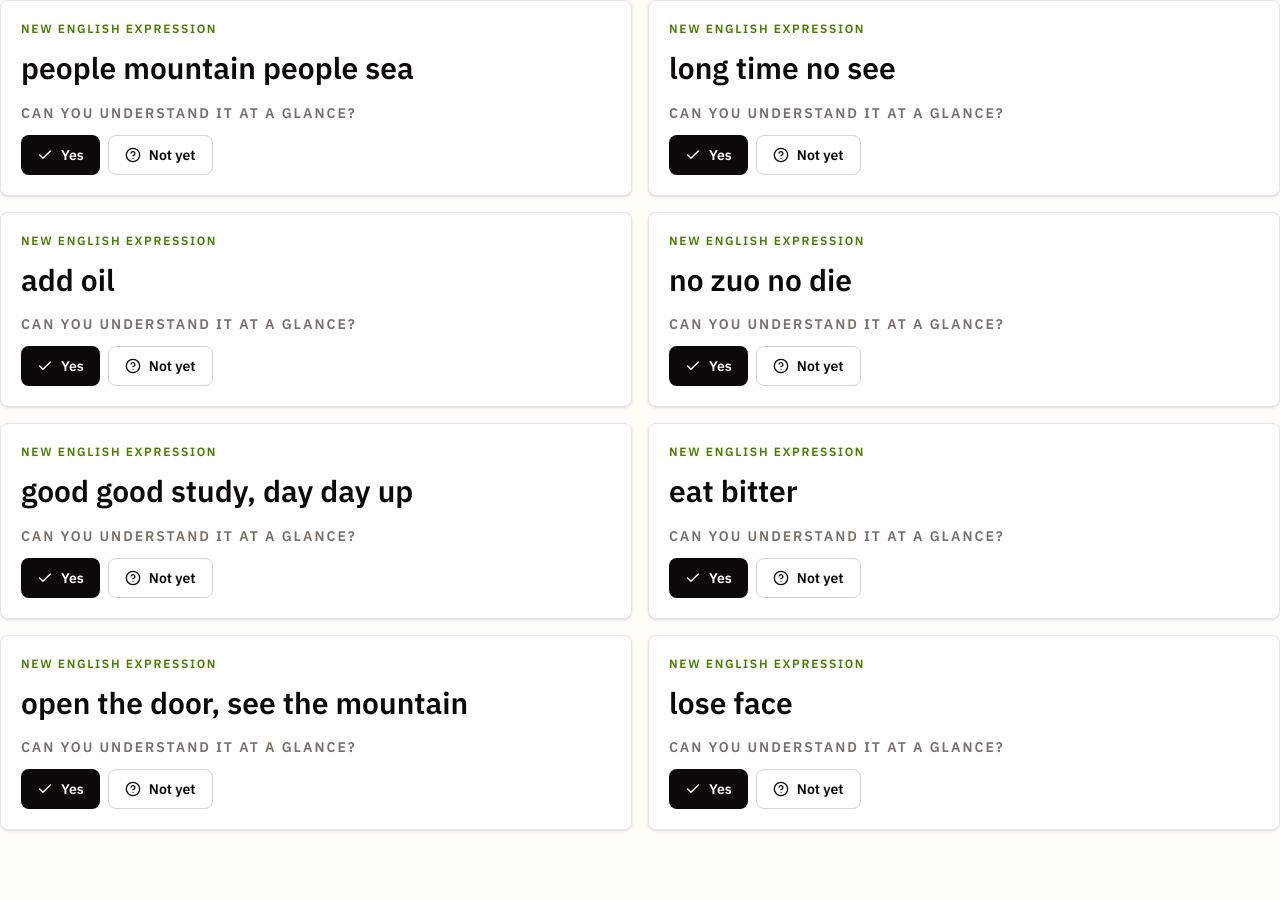
Test: NewEnglishPlayground › asks whether a New English expression is understandable at a glance
The width and height of the screenshot is (1280, 900).
Expected: the text "Can you understand it at a glance?" below "people mountain people sea" is shown, [21,104,357,122]
Expected: the heading "people mountain people sea" is shown, [21,48,414,87]
Click the button "Yes" below "people mountain people sea": click(60, 154) [21,134,100,174]
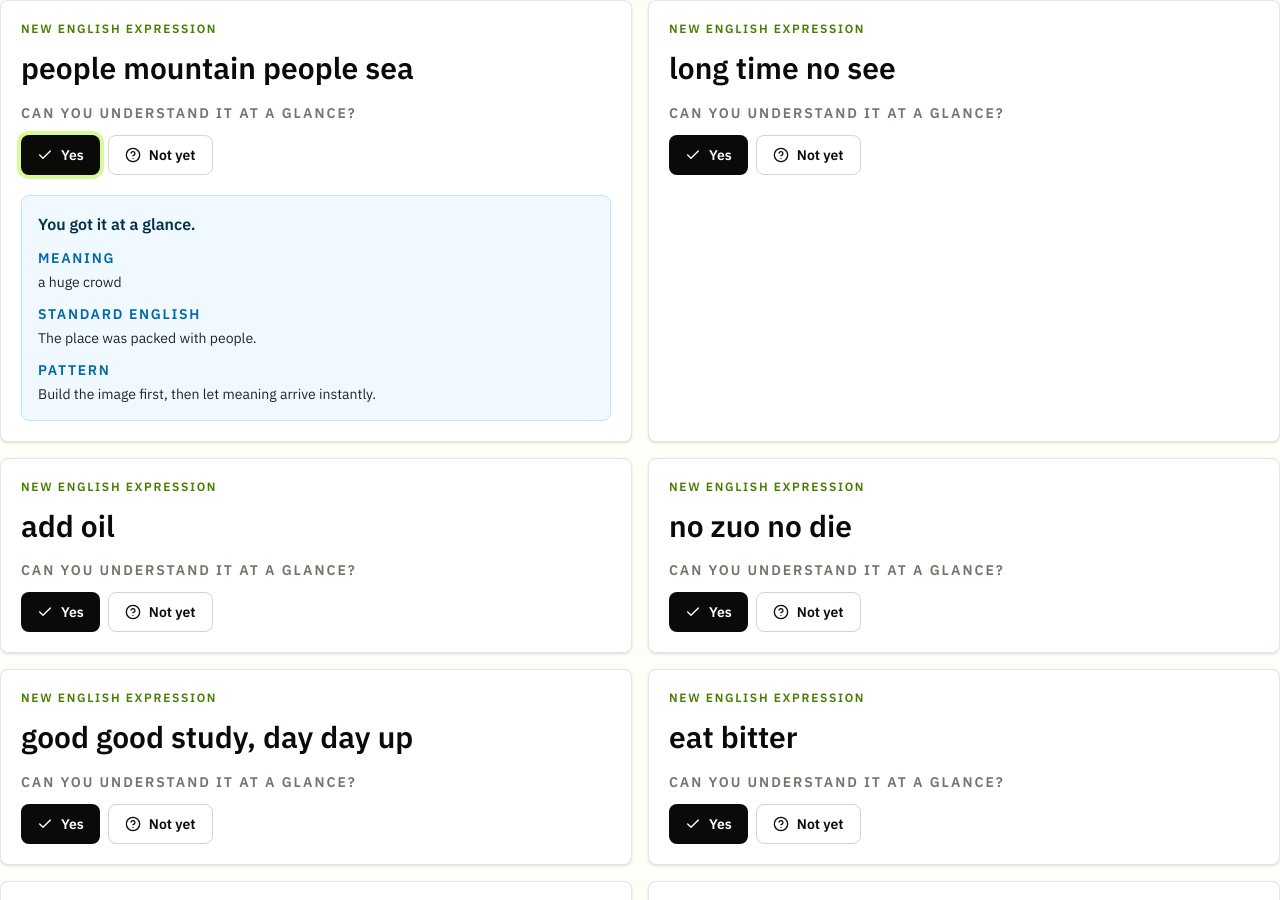
Expected: the text "You got it at a glance." is shown, [38,214,196,234]
